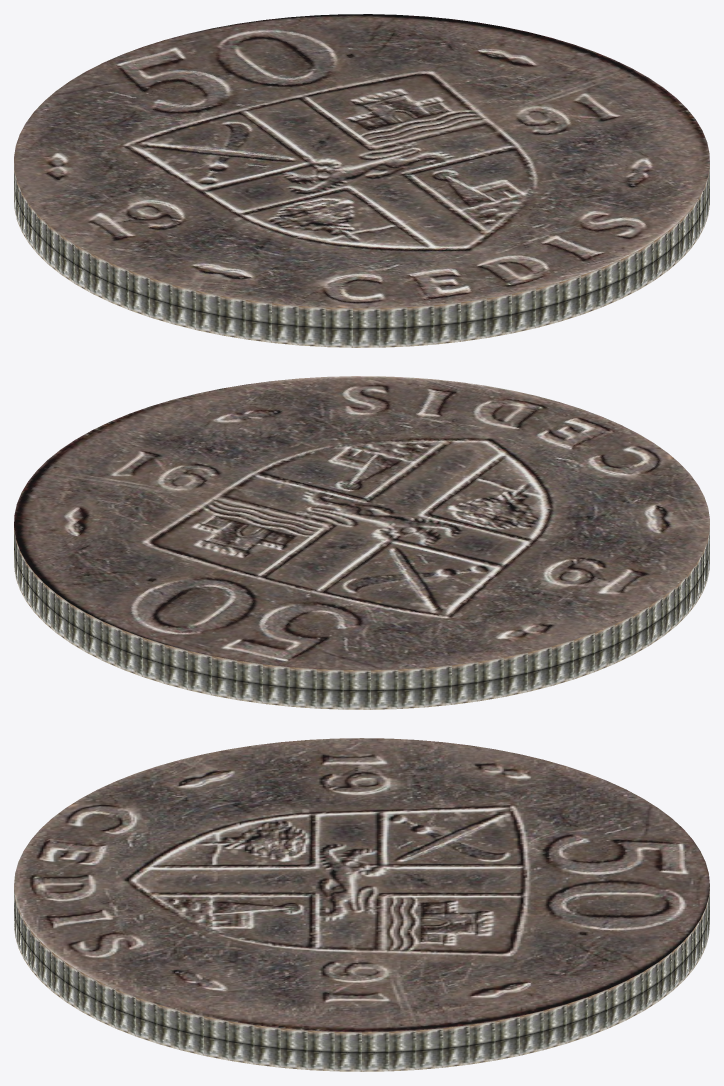
Rendered from Ghana 1991 50 cedis.fbx.
3 renders of one model, top to bottom at view 1: azimuth 30°, elevation 25°; view 2: azimuth 150°, elevation 25°; view 3: azimuth 270°, elevation 25°, orthographic.
Parts seen in each view (by area): view 1: Cylinder; view 2: Cylinder; view 3: Cylinder.
Boxes of the visible parts, x1,y1,x2,y2 form: Cylinder: [14, 14, 709, 347]; Cylinder: [14, 376, 709, 709]; Cylinder: [14, 738, 709, 1071].
Size of the model in its own units: 200 by 12.56 by 200.
1 material, 1 textured.
